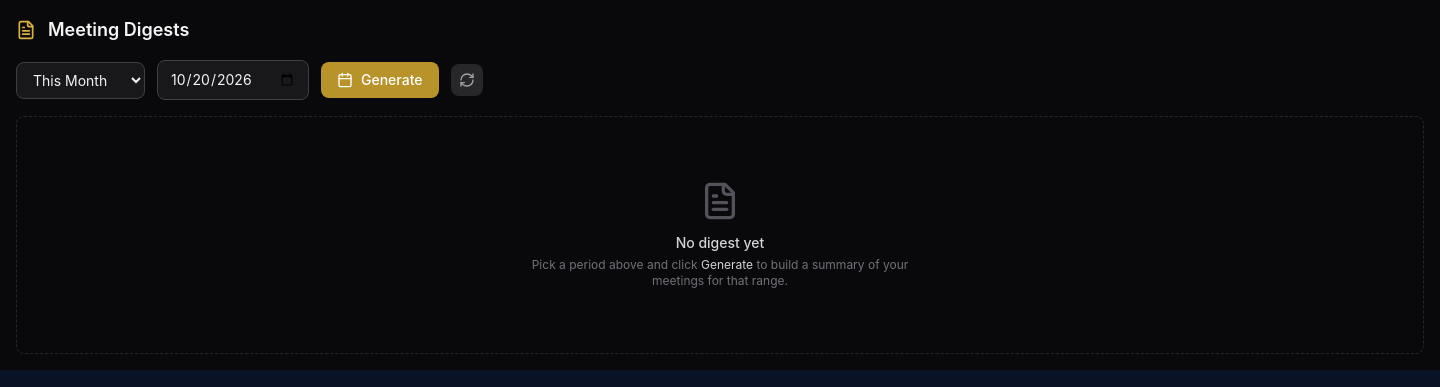
Test case: Digests › shows an error message when the digest endpoint fails
expect the heading "Meeting Digests" is shown: met, box [48,16,189,44]
What coordinates should you click on to do the following:
click the button "Generate"
I would click on:
 (380, 80)
Its box is [321,62,438,98].
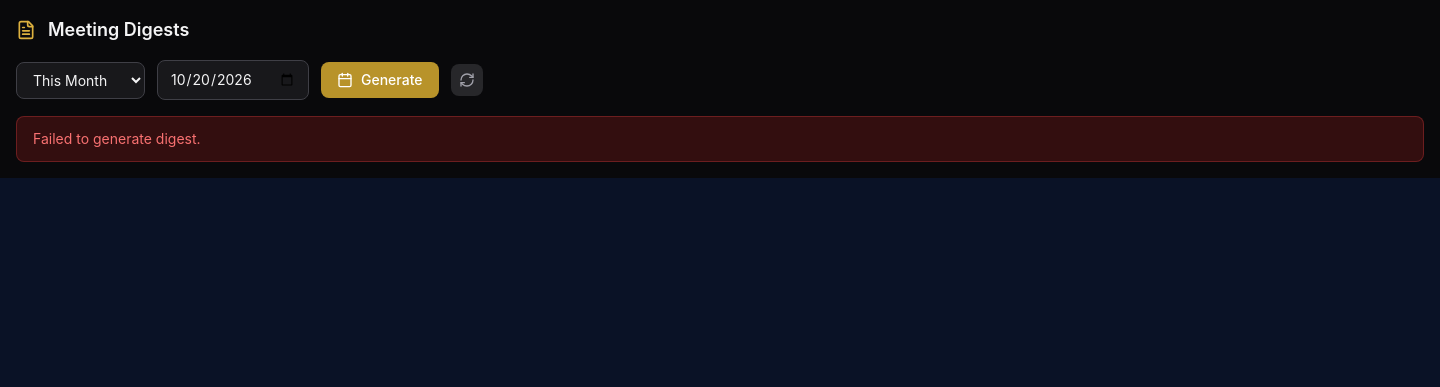
expect the text "Failed to generate digest." is shown: met, box [16,116,1424,162]
